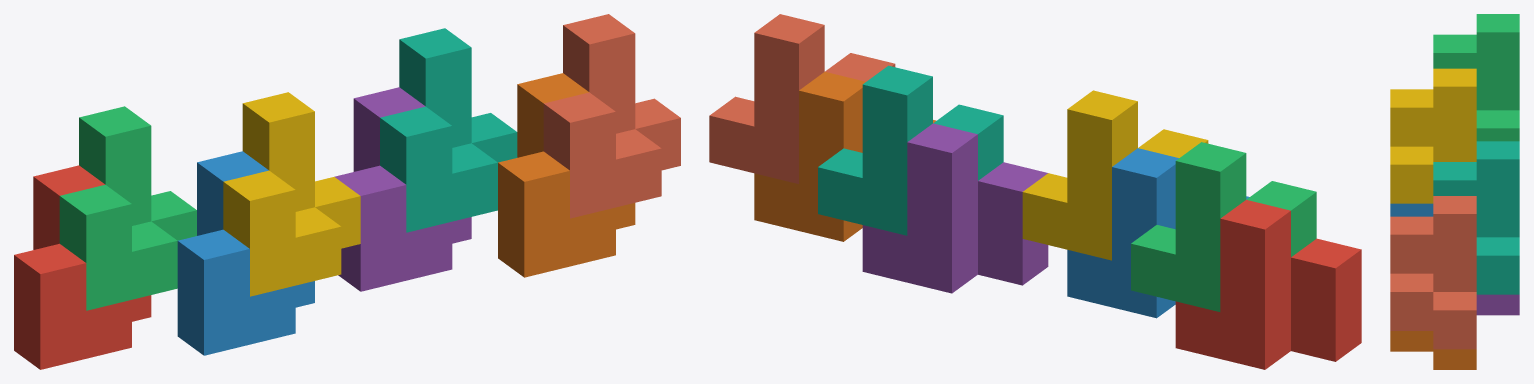
The model's file is tiling.obj.
3 renders of one model, left to right at view 1: azimuth 30°, elevation 25°; view 2: azimuth 150°, elevation 25°; view 3: azimuth 270°, elevation 25°, orthographic. The views are drawn at different scales.
Visible parts, largest first — view 1: copy_1_domain_8, copy_1_domain_4, copy_1_domain_3, copy_1_domain_7, copy_1_domain_2, copy_1_domain_1, copy_1_domain_6, copy_1_domain_5; view 2: copy_1_domain_1, copy_1_domain_5, copy_1_domain_3, copy_1_domain_7, copy_1_domain_4, copy_1_domain_8, copy_1_domain_6, copy_1_domain_2; view 3: copy_1_domain_8, copy_1_domain_4, copy_1_domain_7, copy_1_domain_3, copy_1_domain_6, copy_1_domain_5, copy_1_domain_2.
Boxes of the visible parts, x1,y1,x2,y2 form: copy_1_domain_8: (543,14,680,218); copy_1_domain_4: (223,92,360,296); copy_1_domain_3: (59,106,196,310); copy_1_domain_7: (380,28,517,232); copy_1_domain_2: (177,151,314,355); copy_1_domain_1: (14,165,151,369); copy_1_domain_6: (498,73,635,277); copy_1_domain_5: (334,87,471,291); copy_1_domain_1: (1175,199,1361,369); copy_1_domain_5: (862,123,1048,293); copy_1_domain_3: (1131,142,1316,311); copy_1_domain_7: (818,65,1003,235); copy_1_domain_4: (1022,90,1208,260); copy_1_domain_8: (709,14,895,183); copy_1_domain_6: (754,72,936,241); copy_1_domain_2: (1067,148,1249,318); copy_1_domain_8: (1390,196,1476,349); copy_1_domain_4: (1390,68,1476,203); copy_1_domain_7: (1433,141,1519,294); copy_1_domain_3: (1433,14,1519,141); copy_1_domain_6: (1390,331,1476,369); copy_1_domain_5: (1476,294,1519,315); copy_1_domain_2: (1390,203,1433,216).
Size of the model in its own units: 14 by 4 by 3.
